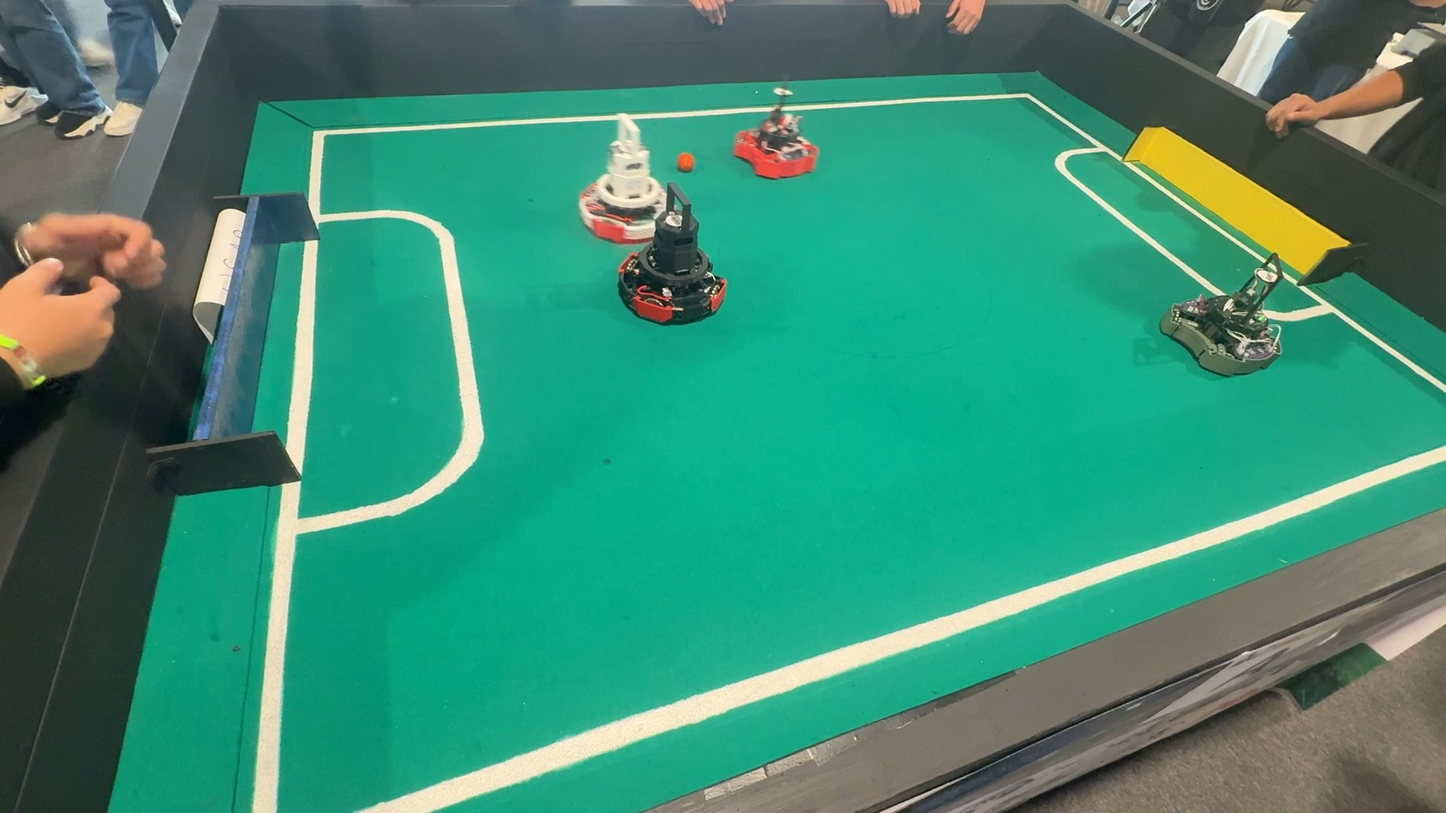Robot: (1150, 250, 1304, 387), (575, 117, 689, 248), (609, 232, 731, 340), (727, 97, 835, 186)
pelota: (667, 149, 701, 175)
